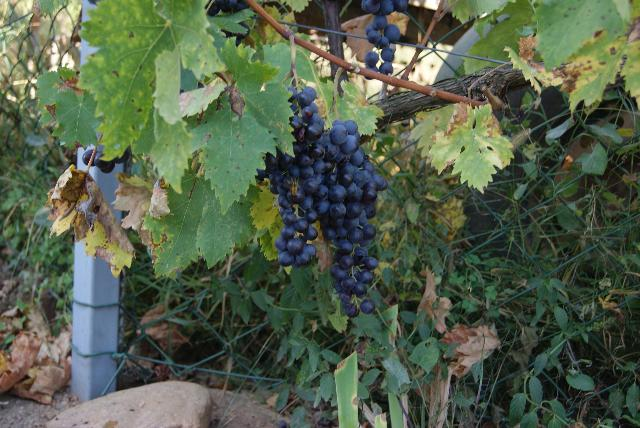grapes: (256, 86, 329, 269), (324, 120, 388, 318)
